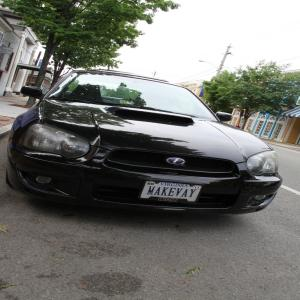Vehicle-registration-plate: (142, 182, 204, 204)
